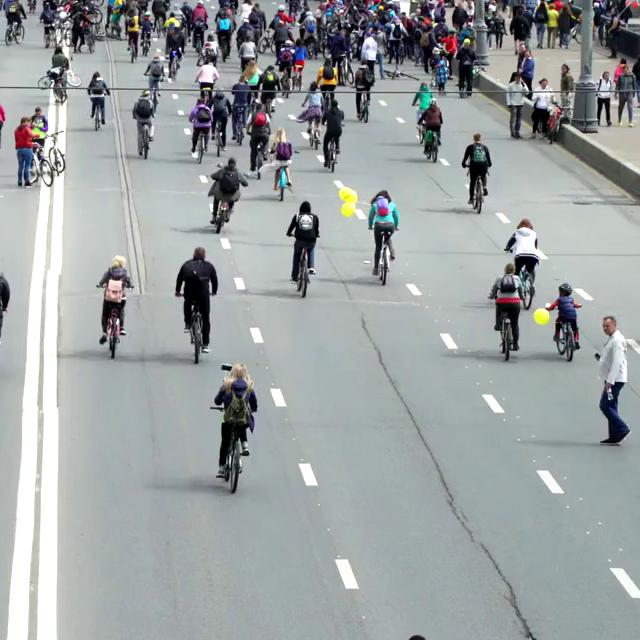bicycle: (209, 404, 252, 493), (95, 281, 131, 359), (487, 294, 521, 361), (503, 248, 538, 309), (176, 293, 205, 364), (286, 234, 318, 297), (551, 308, 580, 362), (541, 98, 572, 144), (371, 228, 396, 285), (273, 150, 299, 201), (37, 60, 81, 88), (28, 141, 54, 187), (416, 121, 441, 162), (467, 168, 489, 214), (211, 196, 236, 234), (45, 129, 65, 175), (294, 246, 310, 297), (88, 91, 108, 131), (135, 118, 154, 159), (230, 104, 248, 146), (353, 85, 372, 123), (143, 73, 163, 109), (73, 22, 96, 53), (211, 115, 228, 155), (486, 17, 507, 49), (190, 129, 208, 164), (336, 52, 354, 86), (245, 96, 261, 134), (323, 135, 339, 172), (4, 17, 25, 45), (306, 117, 323, 150), (253, 141, 268, 178), (167, 48, 183, 82), (256, 28, 275, 53), (383, 68, 419, 81), (434, 63, 449, 94), (413, 105, 425, 143), (278, 67, 292, 97), (138, 29, 151, 56), (291, 65, 303, 92)
